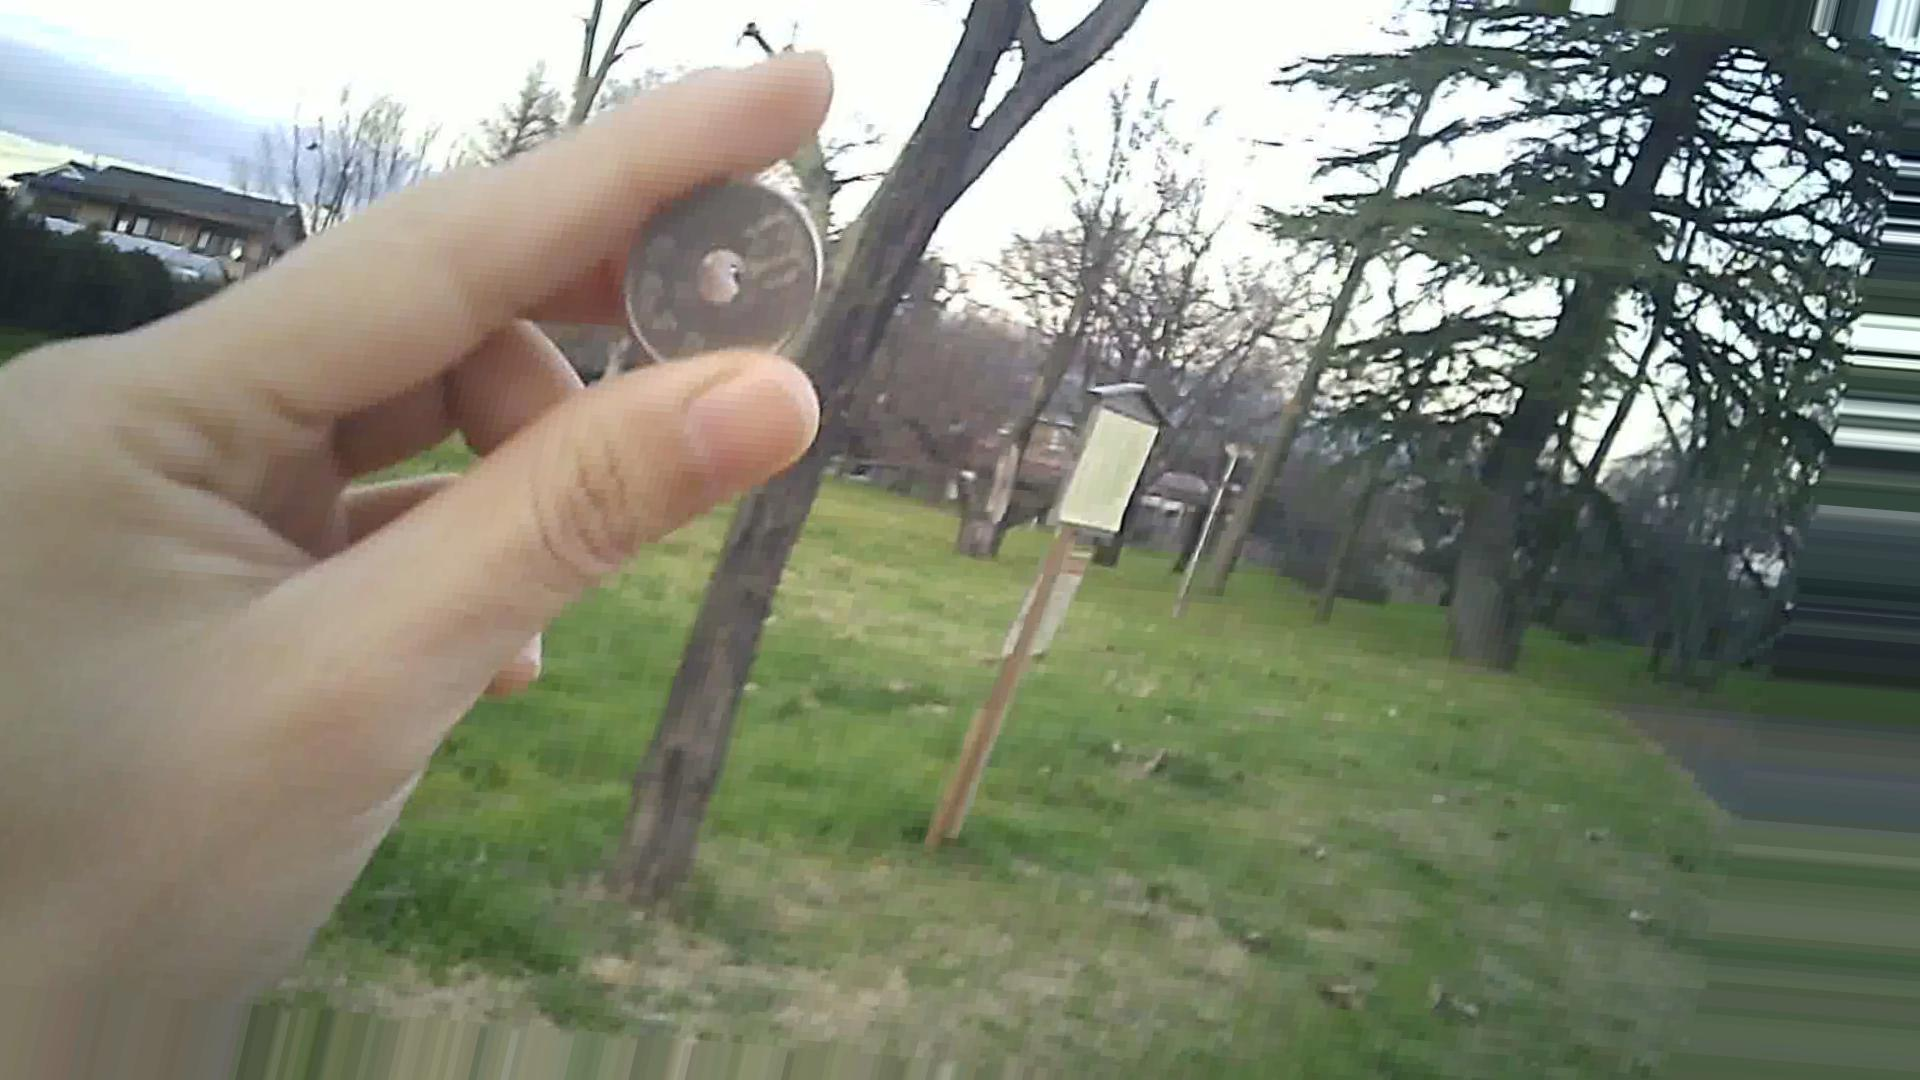50 Yen: (608, 142, 825, 372)
